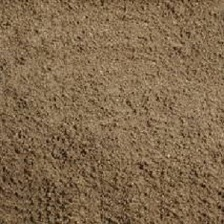sandy_soil: (8, 18, 212, 208)
